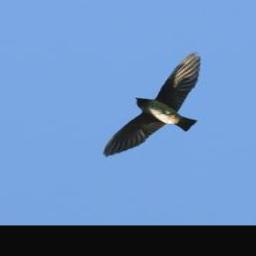Swallow: (107, 51, 205, 159)
